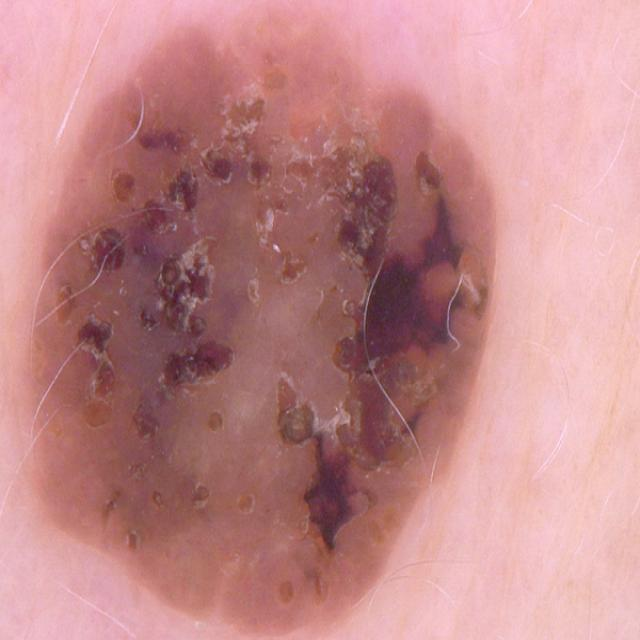Skin-Cancer Pigmented benign keratosis: (23, 31, 523, 640)
